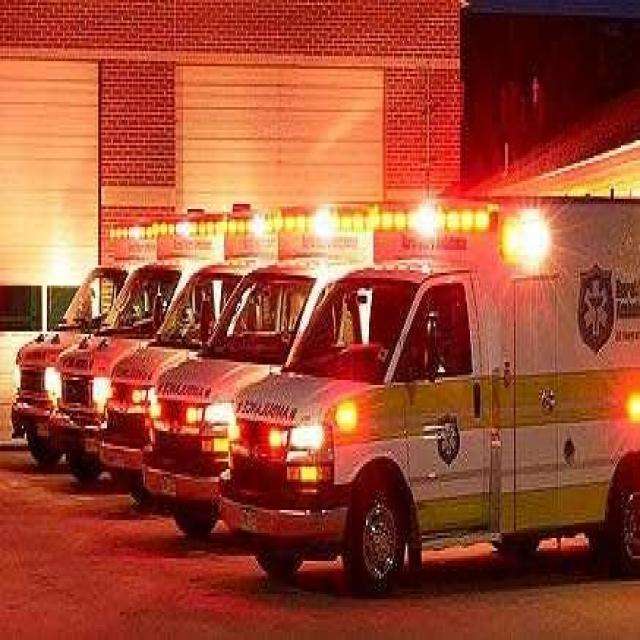emergency-vehicle: (10, 196, 639, 597)
